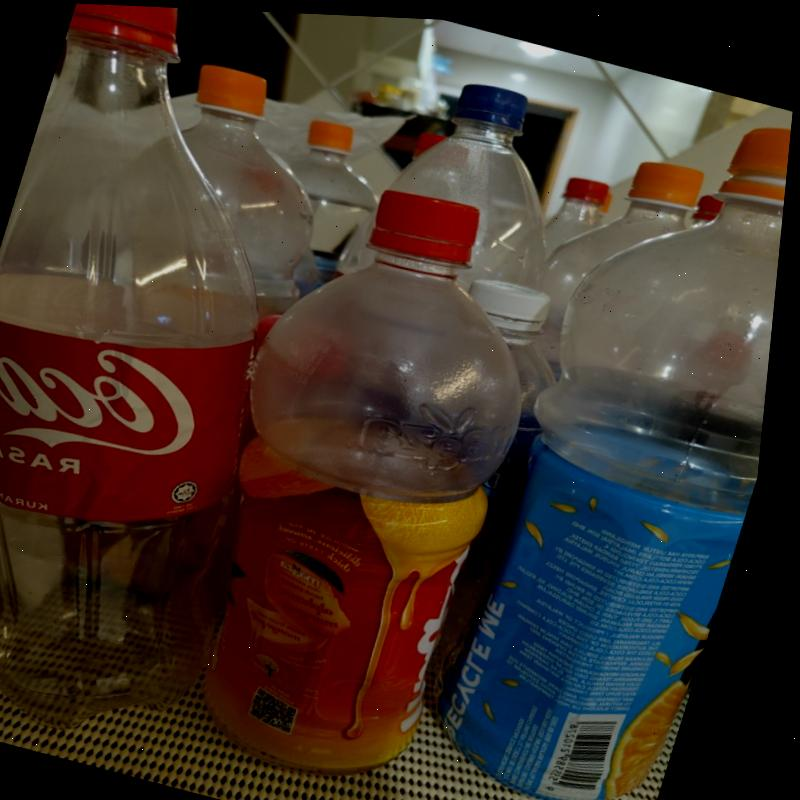botella: (0, 0, 373, 744), (430, 67, 796, 800), (173, 163, 588, 786), (318, 41, 602, 322), (96, 32, 352, 336), (517, 121, 725, 350), (283, 86, 409, 216), (543, 143, 652, 249)
